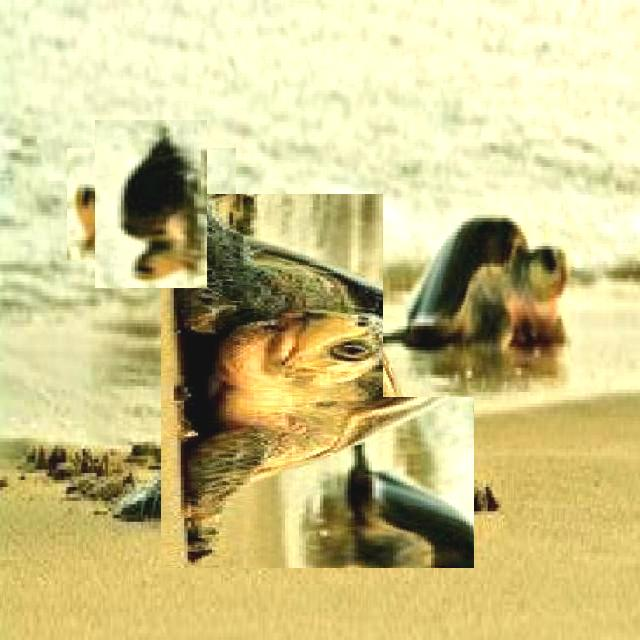Sea turtle: (146, 210, 490, 554), (383, 190, 575, 398), (81, 134, 222, 274)
